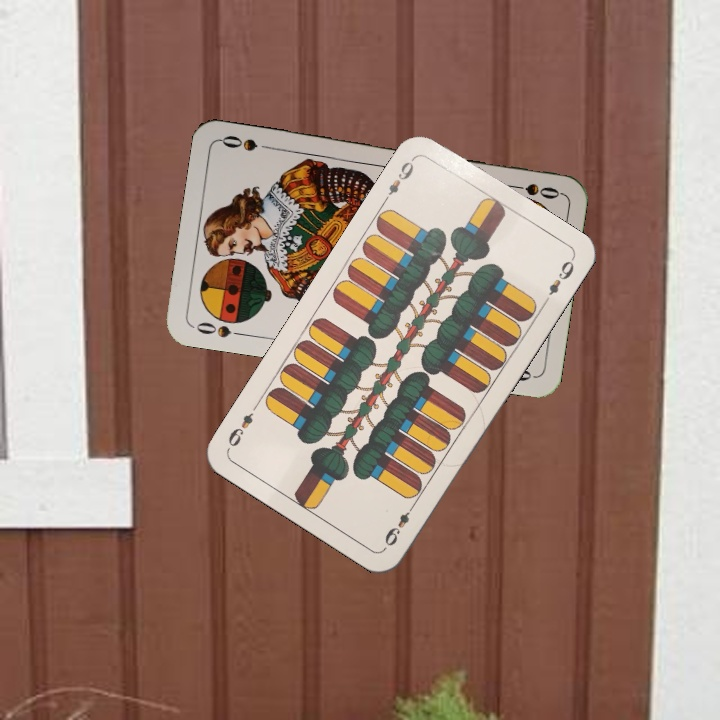E9: (379, 154, 418, 206), (380, 499, 419, 549)
SO: (503, 179, 562, 202), (189, 318, 248, 340)
